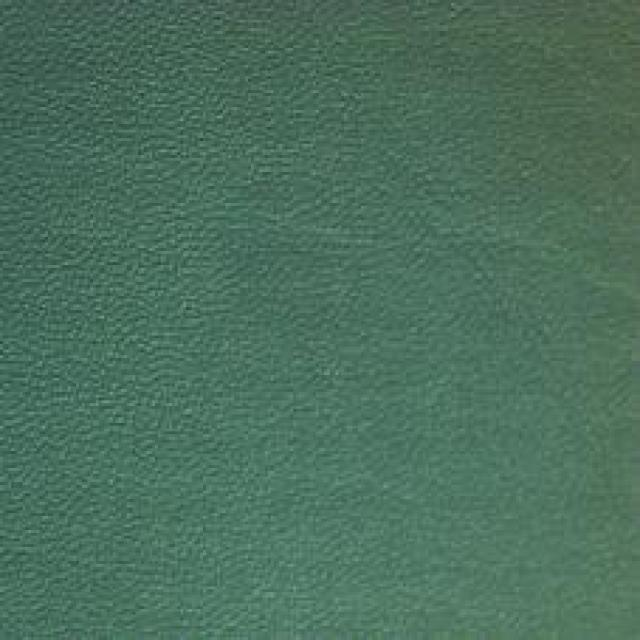Growth Marks: (220, 175, 586, 319)
